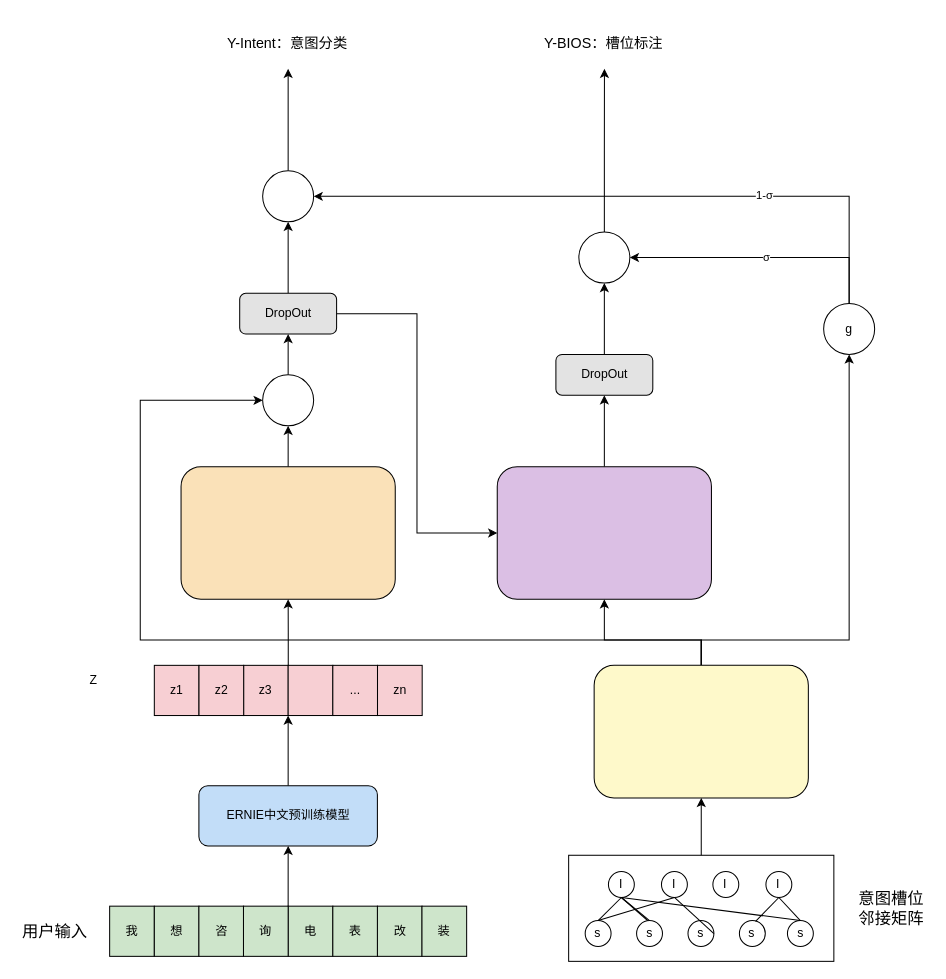
The diagram is 946 pixels wide and 979 high, and some of its shapes have lost their labels. The centre of each missing label's shape, as x and y in pixels:
"IntentAttention 意图注意力层" belongs at (x=287, y=532).
"S1" belongs at (x=288, y=400).
"S2" belongs at (x=288, y=196).
"S3" belongs at (x=604, y=257).
"SlotAttention 槽位注意力层" belongs at (x=603, y=532).
"z4" belongs at (x=310, y=690).
"图神经网络" belongs at (x=700, y=731).
